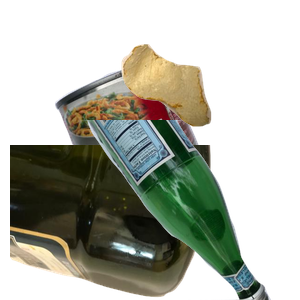glass: (75, 120, 300, 300)
metal: (52, 57, 260, 237)
plastic: (10, 145, 213, 300)
trash: (119, 42, 300, 161)
